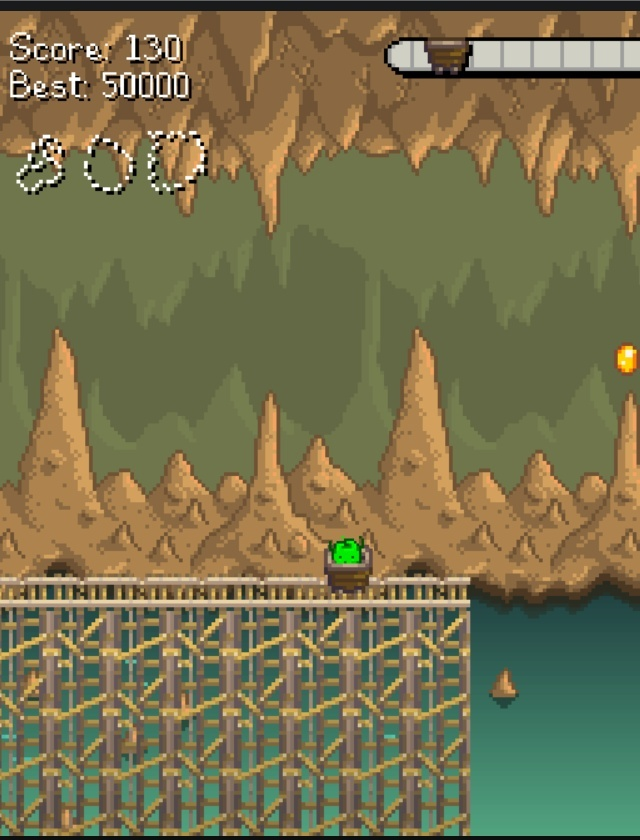coins: (616, 344, 637, 374)
minecart: (325, 538, 371, 589)
tracks: (0, 566, 312, 616)
